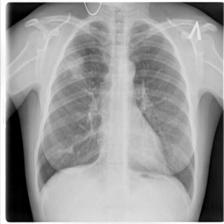tuberculosis: (36, 17, 196, 205)
